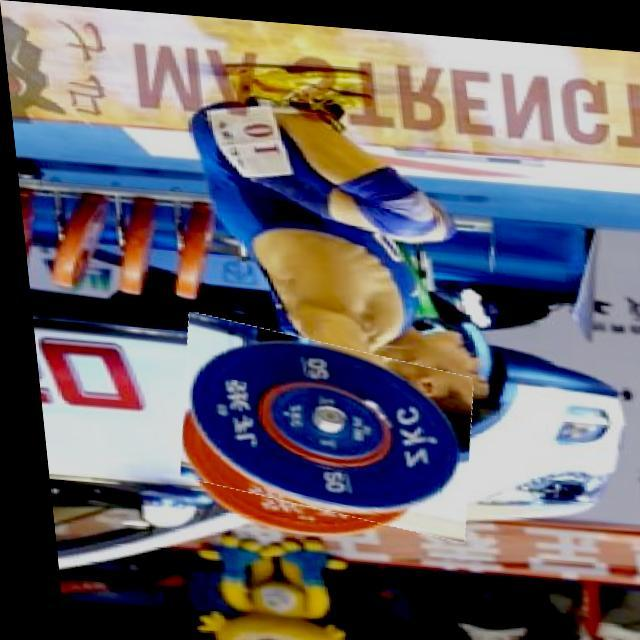barbell: (164, 319, 473, 528)
